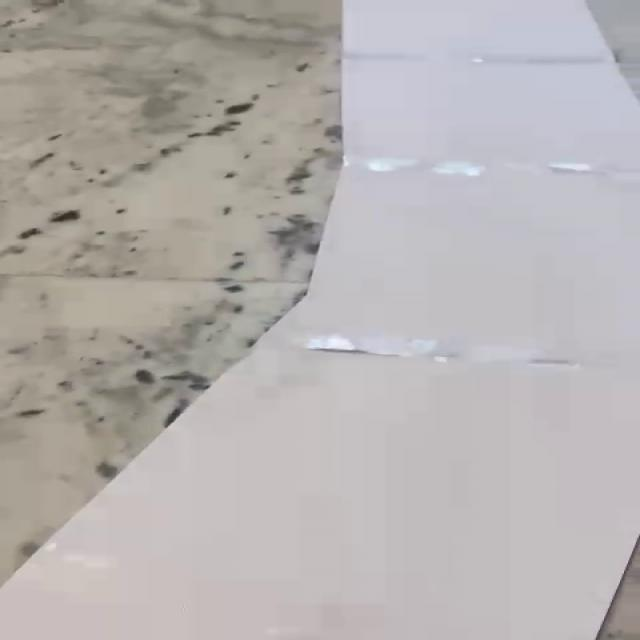road: (0, 0, 640, 640)
